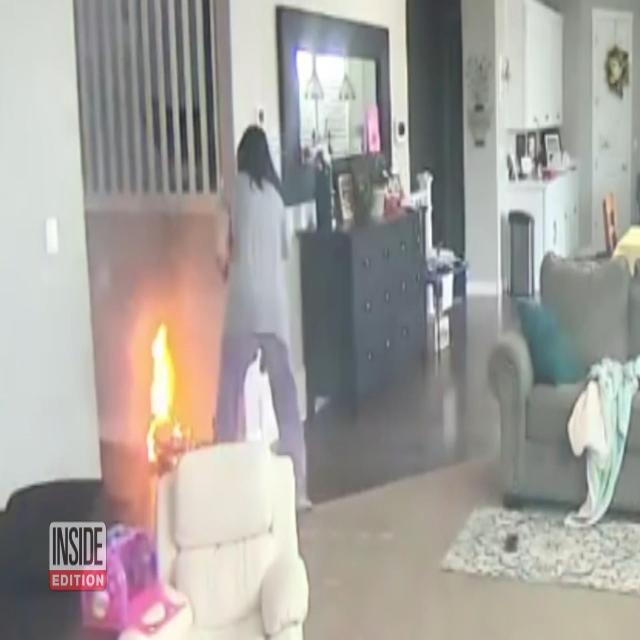fire: (146, 322, 182, 465)
